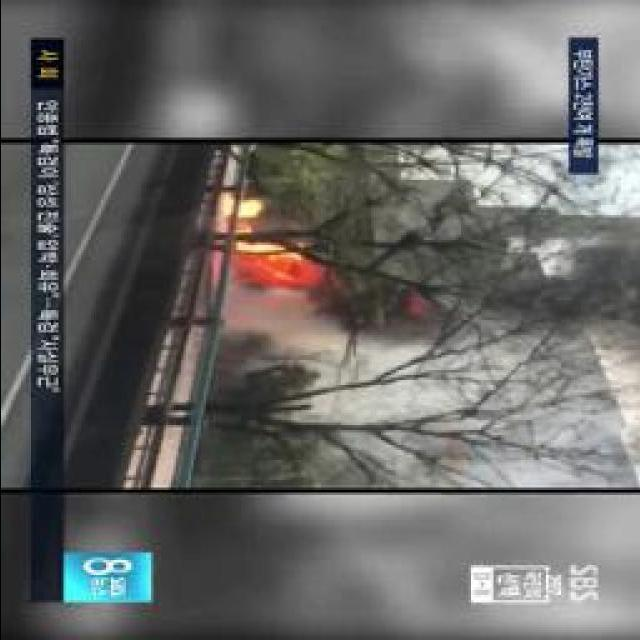Fire: (222, 242, 322, 294), (210, 196, 260, 227)
